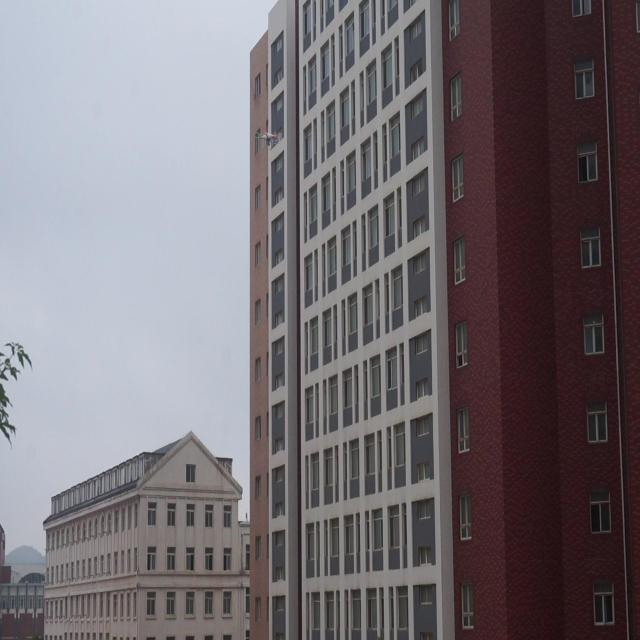drone: (254, 126, 280, 152)
